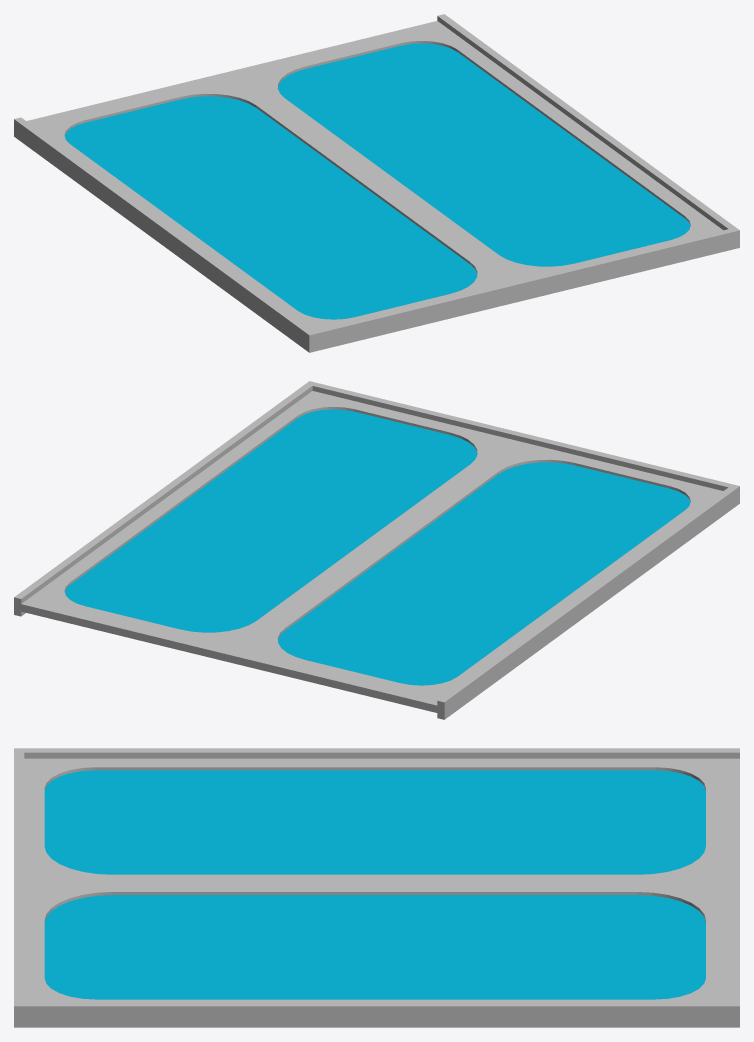
3 views of the same model, one above another, from view 1: azimuth 30°, elevation 25°; view 2: azimuth 150°, elevation 25°; view 3: azimuth 270°, elevation 25° (orthographic). The views are drawn at different scales.
Parts seen in each view (by area): view 1: 0_3_1_2_1_1_1_2; view 2: 0_3_1_2_1_1_1_2; view 3: 0_3_1_2_1_1_1_2.
Part boxes in pixels (x1,y1,x2,y2): 0_3_1_2_1_1_1_2: (14,14,739,352); 0_3_1_2_1_1_1_2: (14,381,739,719); 0_3_1_2_1_1_1_2: (14,748,739,1027).
Size of the model in its own units: 1.8 by 0.07 by 2.14.
